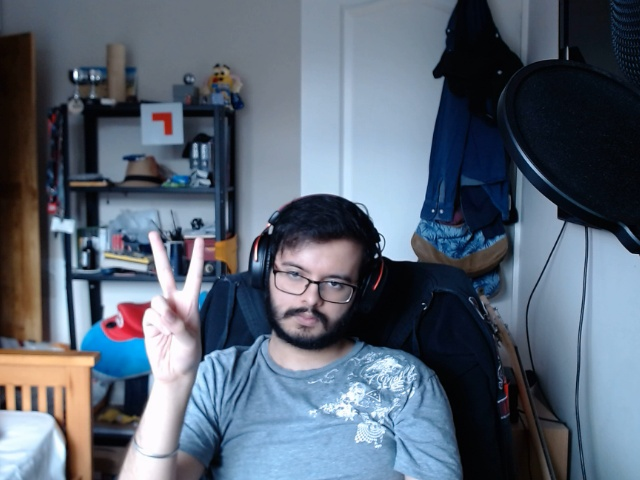Peace: (134, 217, 214, 388)
